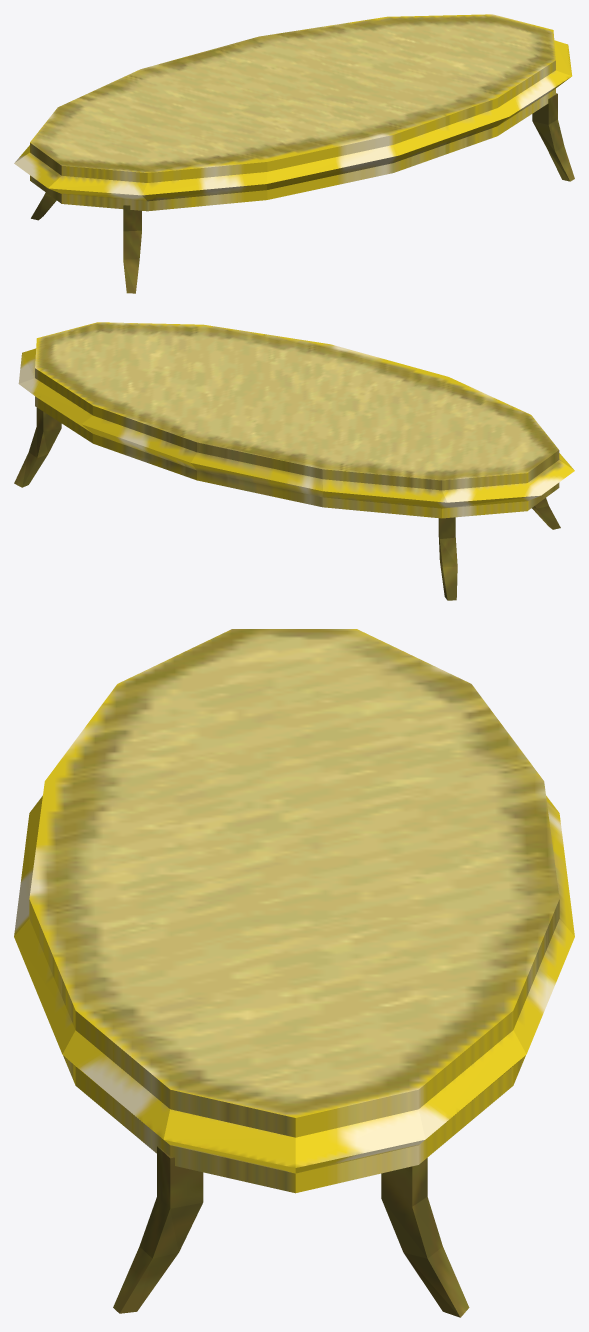
File: DecTable.glb
3 renders of one model, top to bottom at view 1: azimuth 30°, elevation 25°; view 2: azimuth 150°, elevation 25°; view 3: azimuth 270°, elevation 25°, orthographic. The views are drawn at different scales.
Parts seen in each view (by area): view 1: DecTable; view 2: DecTable; view 3: DecTable.
Part boxes in pixels (x1,y1,x2,y2): DecTable: (14,14,574,293); DecTable: (14,322,574,600); DecTable: (14,629,574,1317).
Size of the model in its own units: 297 by 58.39 by 136.
1 material, 1 textured.
